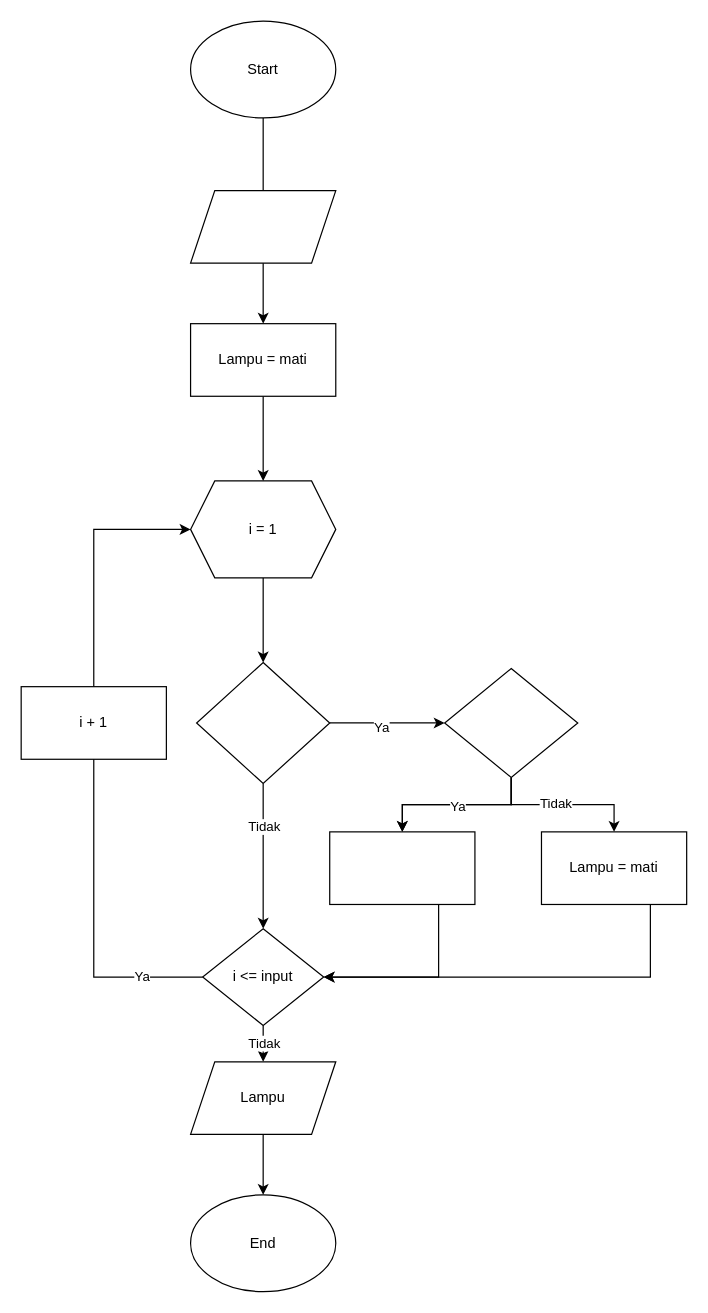
The diagram is 708 pixels wide and 1313 high, and some of its shapes have lost their labels. Each missing label, with the centre of its shape:
"Input" goes at (262,226).
"Input % 1 === 0" goes at (262,722).
"Lampu = nyala" goes at (402,867).
"Lampu mati ?" goes at (510,722).
